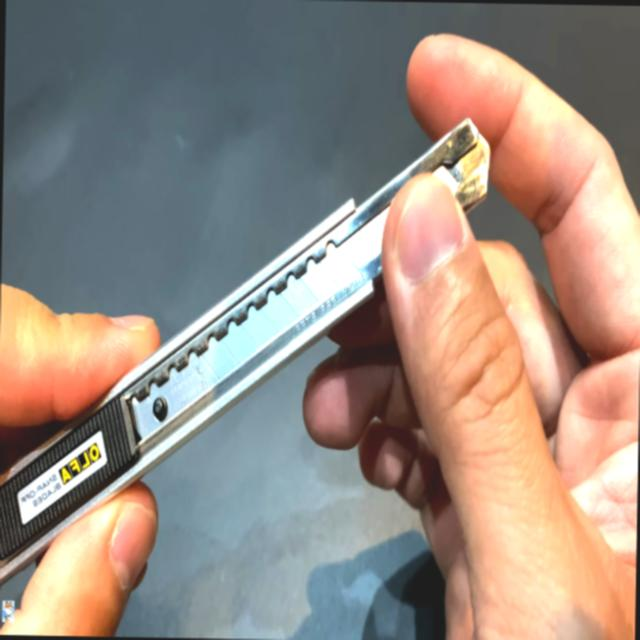cutter: (0, 28, 625, 640)
